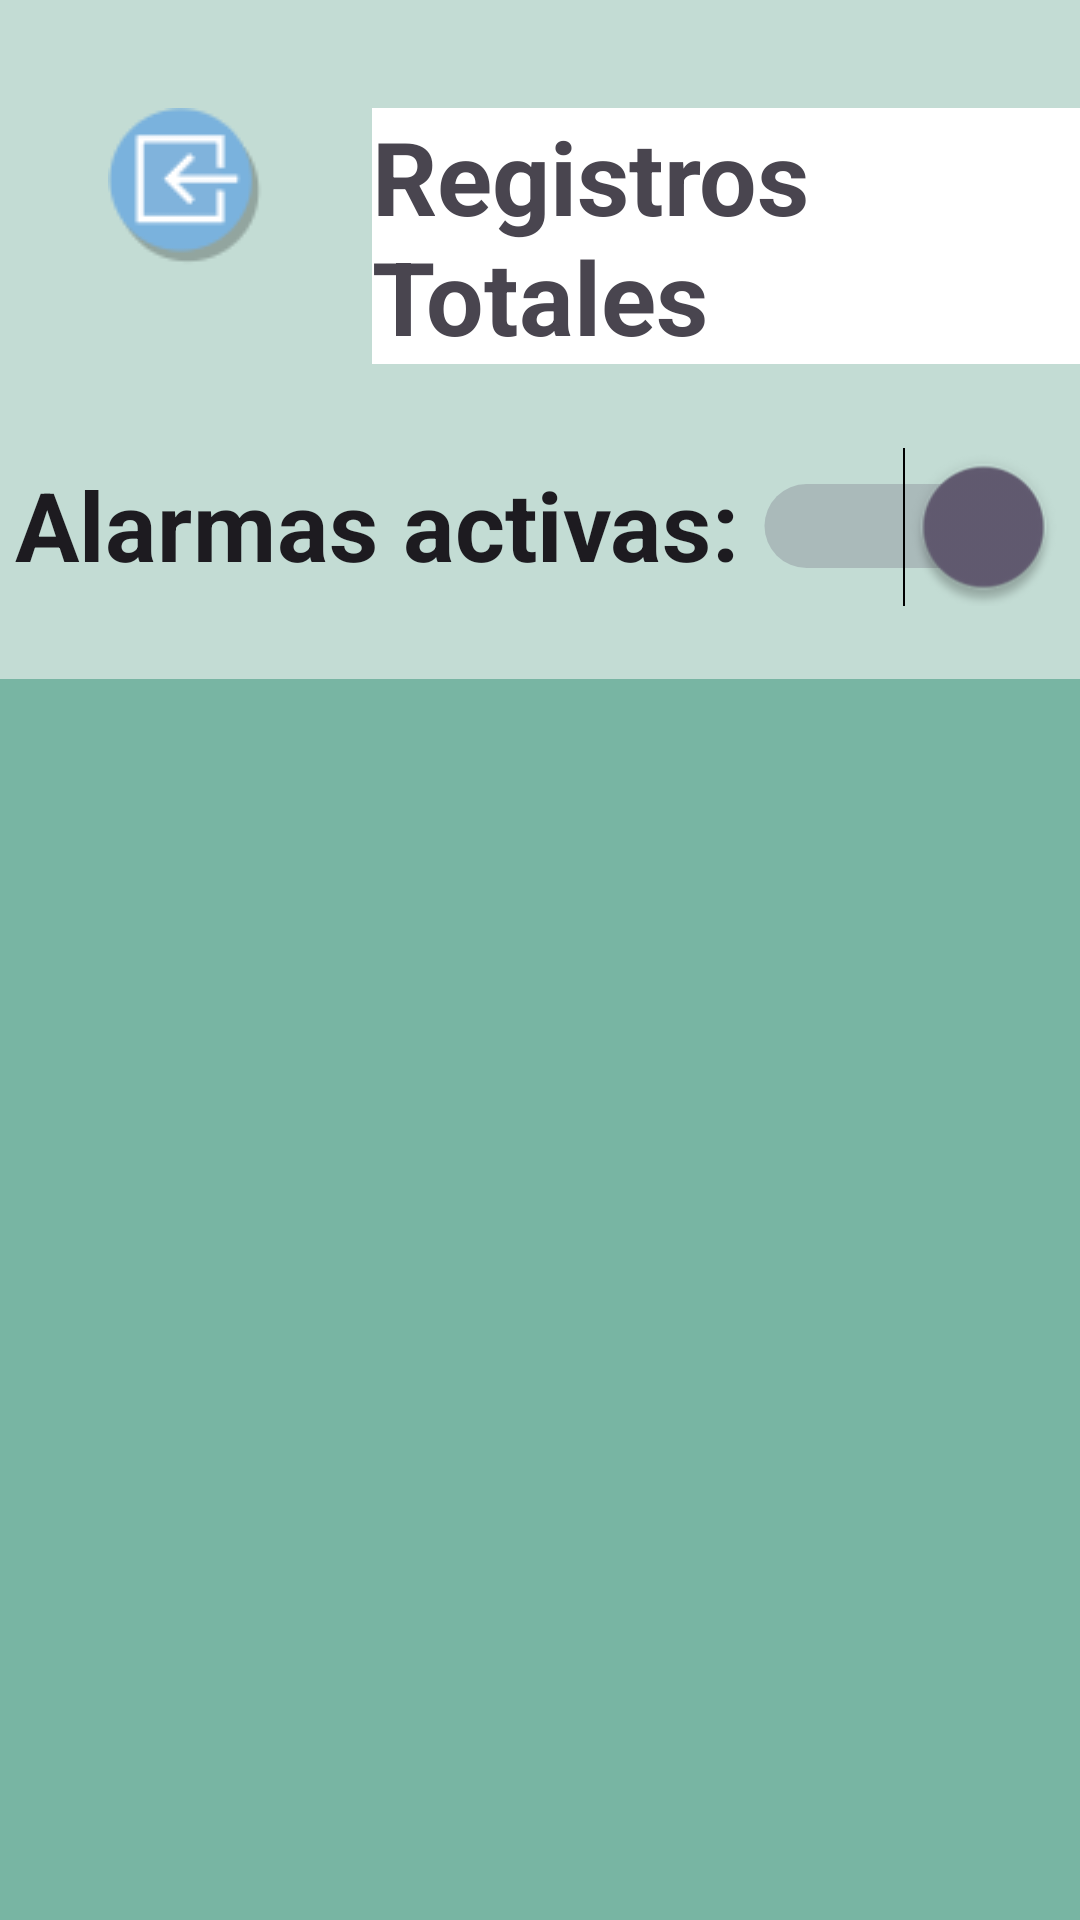

Icon click points for this 1080px×1920px phone screenshot, format (x=x, y=y):
flecha: (x=183, y=184)
